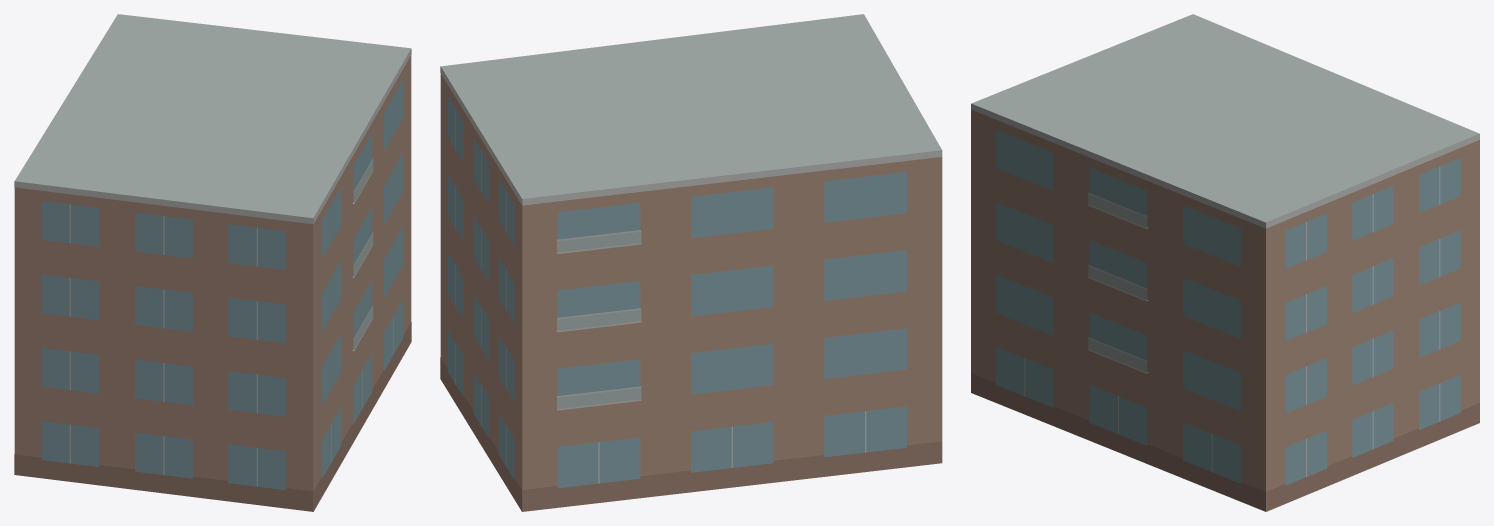
The model's file is survey-upis-32921271.glb.
3 views of the same model, side by side, from view 1: azimuth 30°, elevation 25°; view 2: azimuth 150°, elevation 25°; view 3: azimuth 270°, elevation 25° (orthographic). The views are drawn at different scales.
Parts seen in each view (by area): view 1: survey-upis-32921271.tmp; view 2: survey-upis-32921271.tmp; view 3: survey-upis-32921271.tmp.
Part boxes in pixels (x1=…): survey-upis-32921271.tmp: x1=14, y1=14, x2=411, y2=511; survey-upis-32921271.tmp: x1=440, y1=14, x2=942, y2=511; survey-upis-32921271.tmp: x1=971, y1=14, x2=1479, y2=511.
Bounding box in the file's own units: 18.1 × 11.7 × 18.66.
